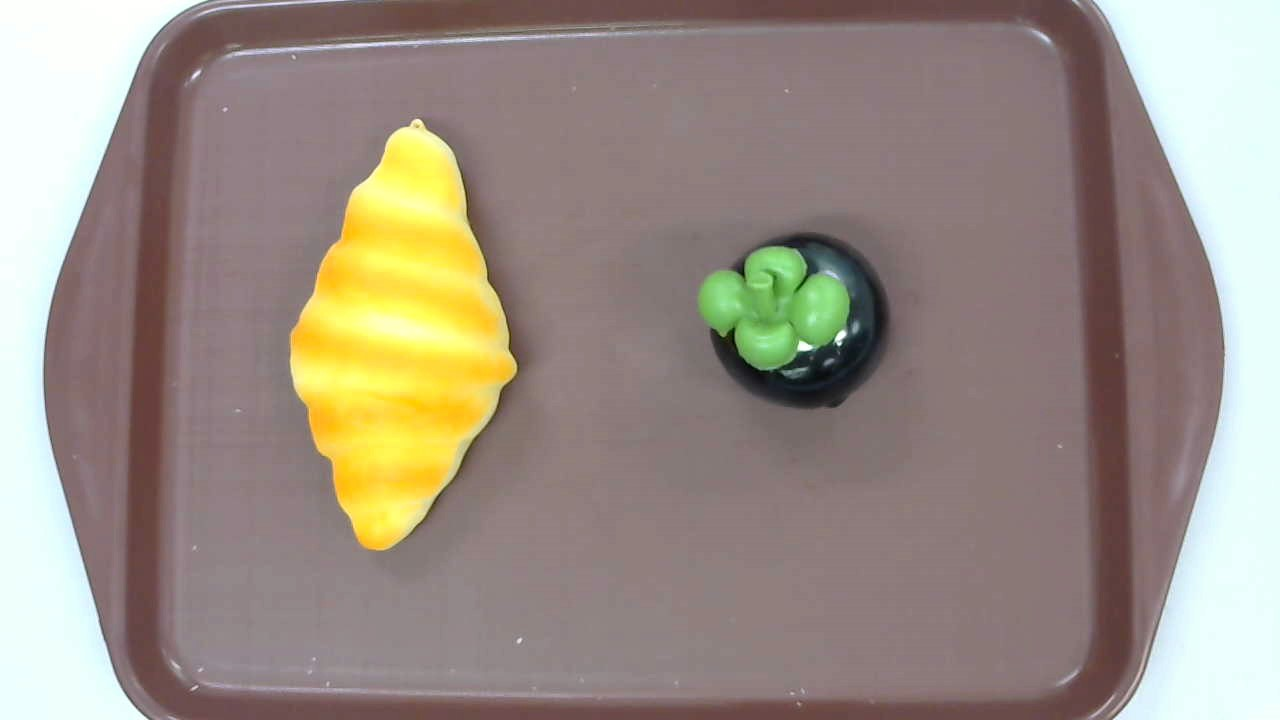croissant: (289, 119, 518, 550)
mangosteen: (699, 232, 892, 410)
